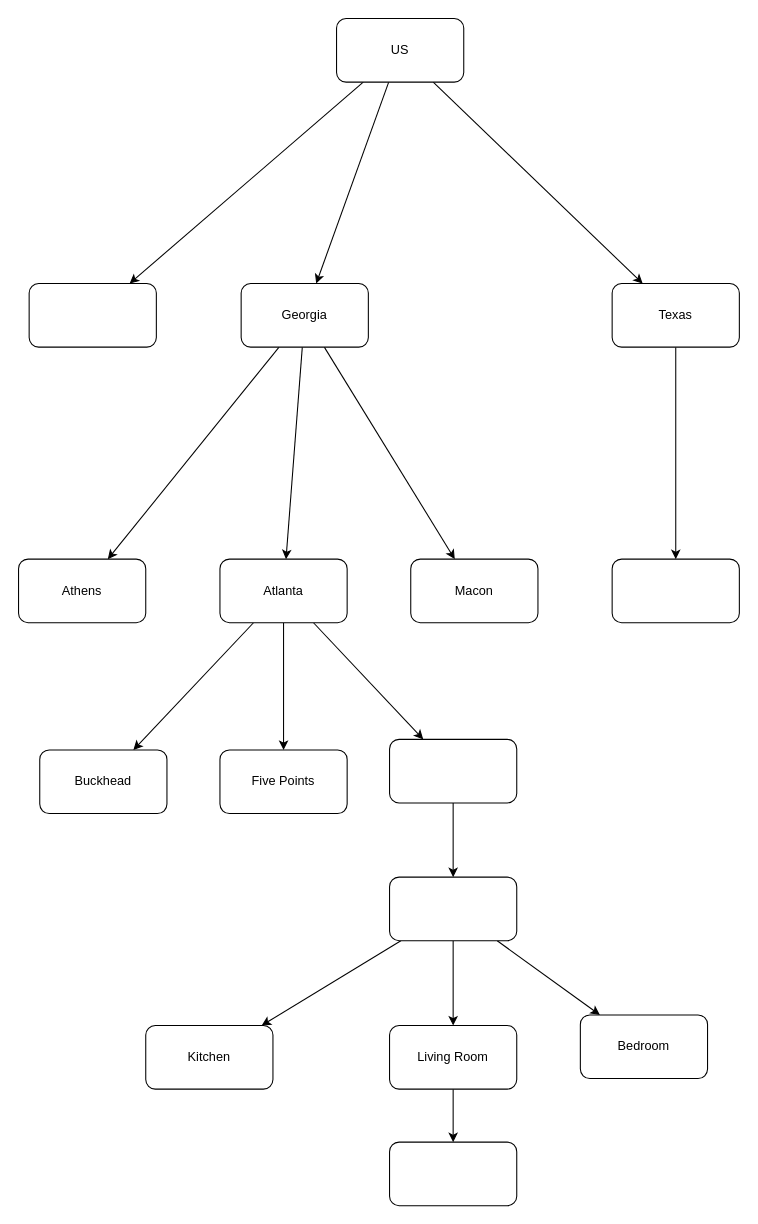
Some shapes in this 758 by 1224 pixel diagram are drawn without their labels. Here are the shapes that lost their labels. From the top down, the centre of each, then its label:
At point 92,314: "Alaska".
At point 675,590: "Houston".
At point 452,770: "East Lake".
At point 452,908: "Chris' House".
At point 452,1173: "Oakley's bed".
